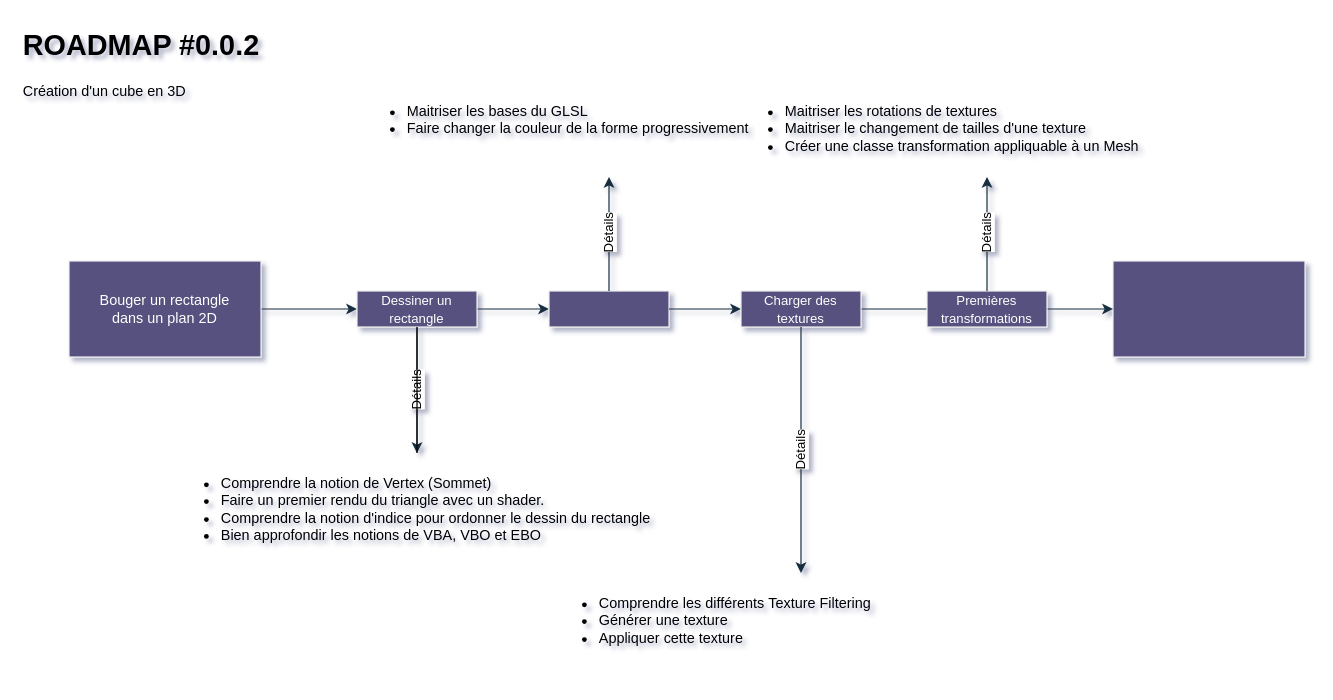
Image size: 1333x700. Some labels were removed from this diagram. Here are the shapes that lost their labels. From the top down, the centre of each, then its label:
(608,308): Maitriser les shaders
(1208,308): Dessiner un cube
